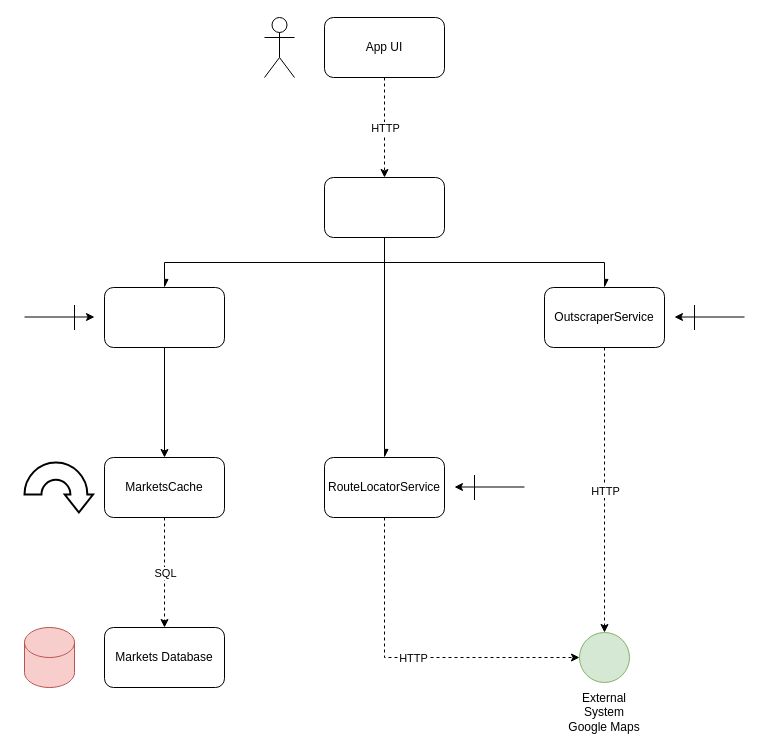
Some shapes in this 770 by 755 pixel diagram are drawn without their labels. The centre of each missing label's shape, as x and y in pixels:
"Gateway API" goes at (384,207).
"MarketsFilterService" goes at (164,317).
"User" goes at (279,47).
